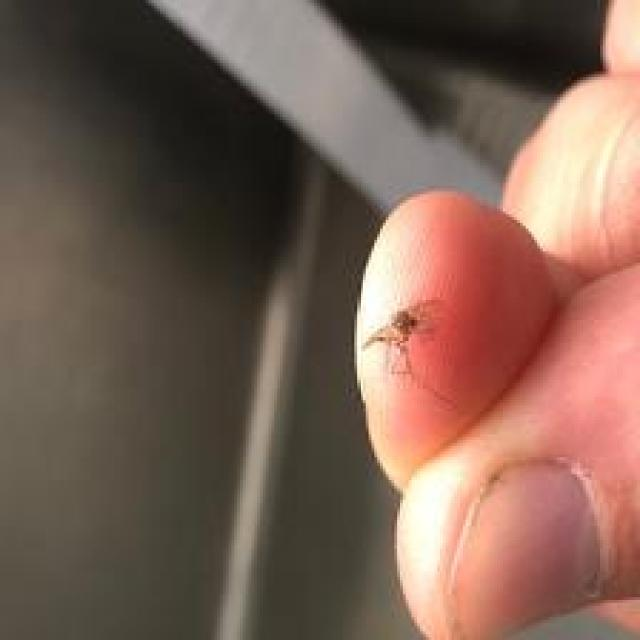Culex: (362, 298, 438, 378)
